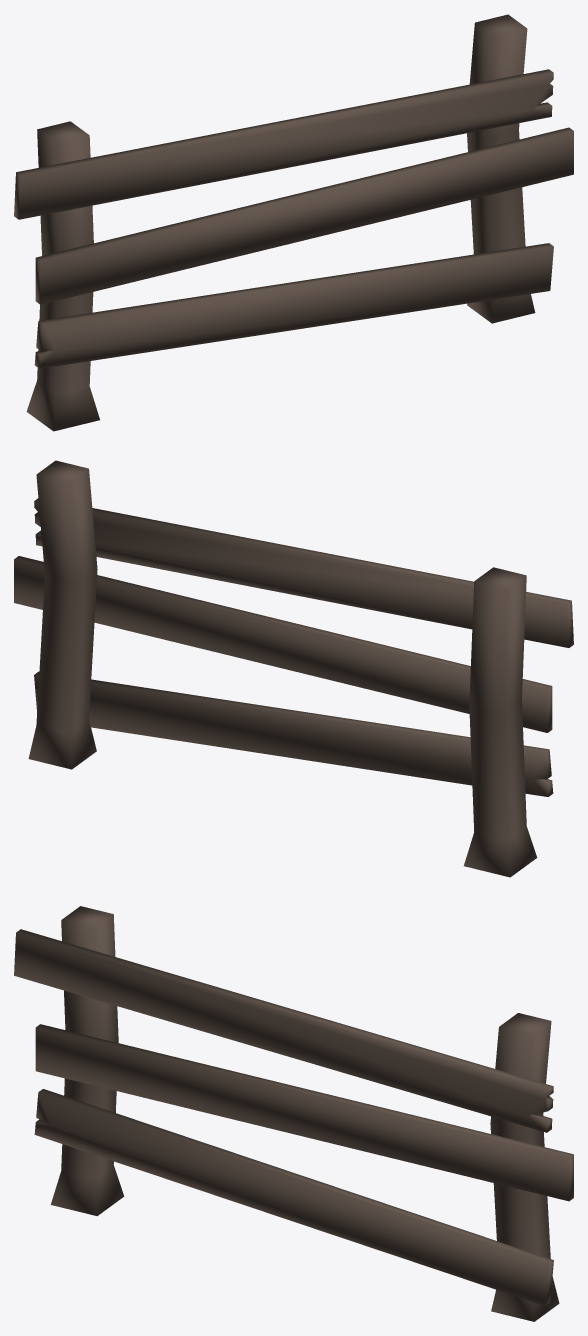
File: fence_02.gltf
3 views of the same model, one above another, from view 1: azimuth 30°, elevation 25°; view 2: azimuth 150°, elevation 25°; view 3: azimuth 330°, elevation 25° (orthographic).
Parts seen in each view (by area): view 1: fence_02; view 2: fence_02; view 3: fence_02.
Part boxes in pixels (x1=…): fence_02: x1=14, y1=14, x2=573, y2=431; fence_02: x1=14, y1=460, x2=573, y2=877; fence_02: x1=14, y1=906, x2=573, y2=1321.
Bounding box in the file's own units: 2.26 × 1.11 × 0.1972.
